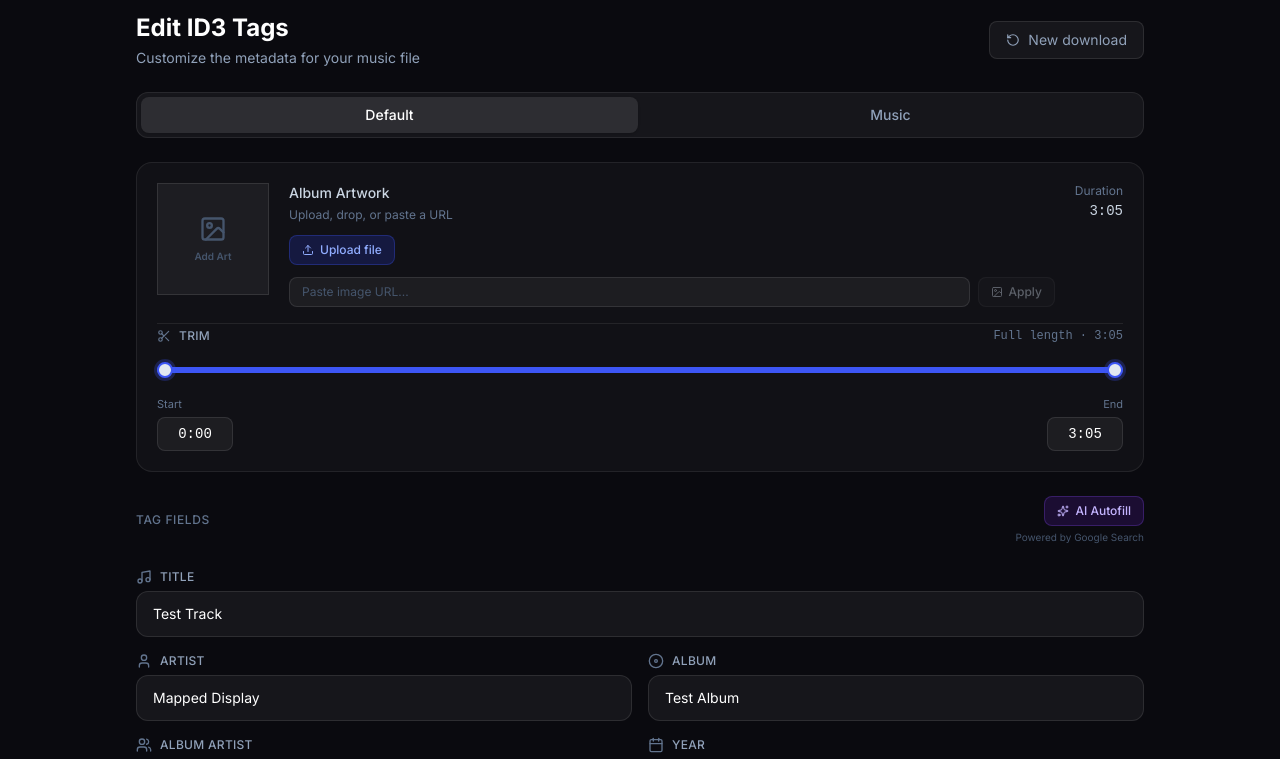
Scenario: TagEditor rendering › prefills Artist Name Mapping channel field with original artist
The width and height of the screenshot is (1280, 759).
Switch to Music tab
Click the button "music".
click(890, 115)  # box [642,97,1139,133]
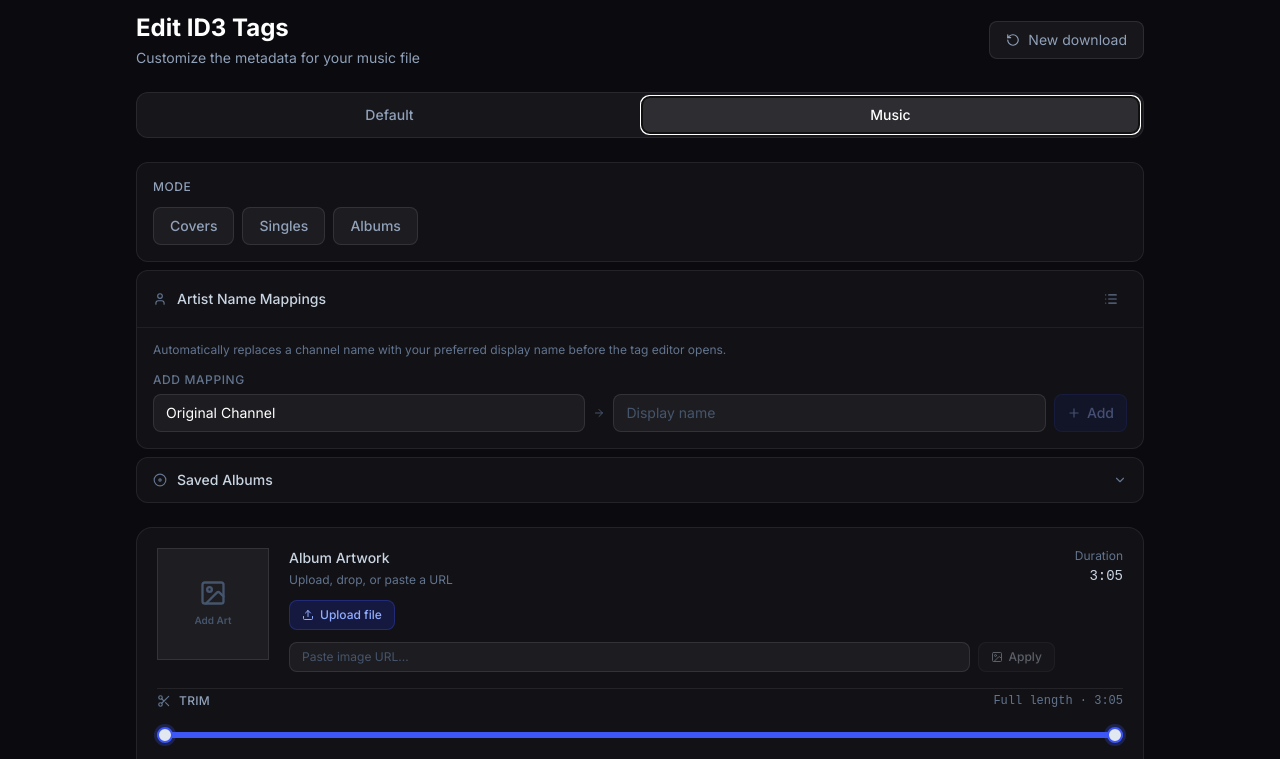
Result: the field with placeholder "Channel name (exact)" holds "Original Channel" at [153,394,585,432]
